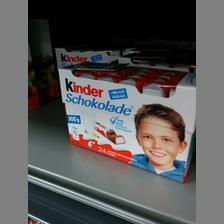Schokolade: (58, 61, 194, 182)
